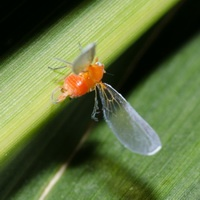insect: (52, 43, 161, 154)
